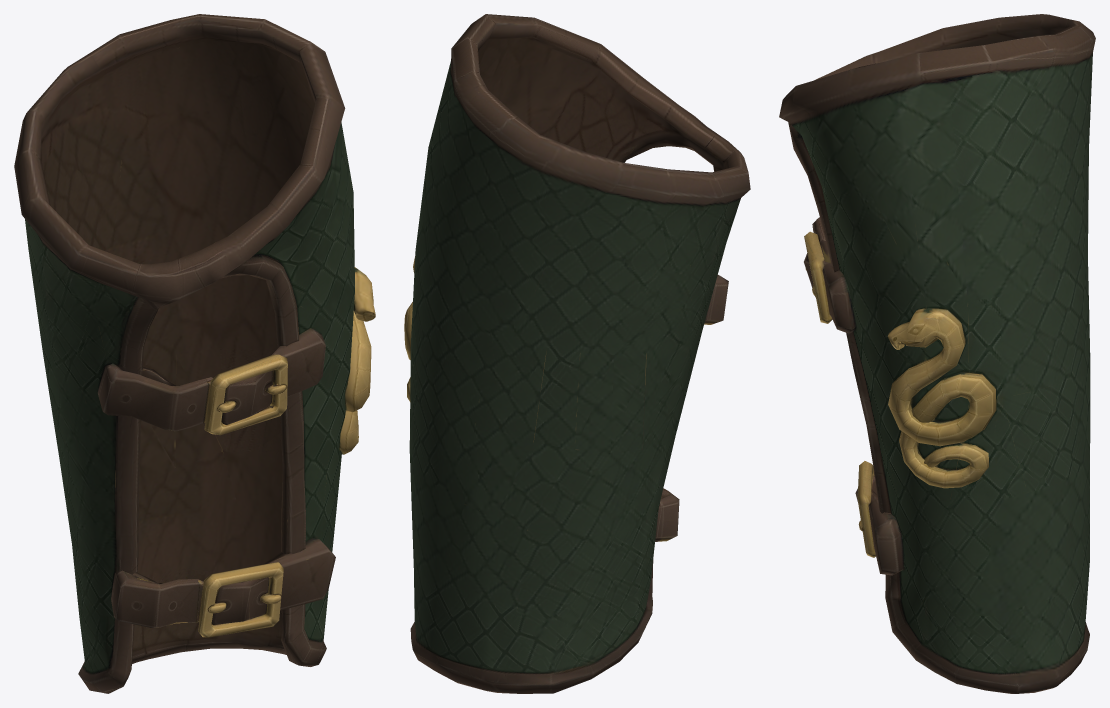
The model's file is serpents-coil-bracer-i1_i23d.glb.
3 views of the same model, side by side, from view 1: azimuth 30°, elevation 25°; view 2: azimuth 150°, elevation 25°; view 3: azimuth 270°, elevation 25° (orthographic). The views are drawn at different scales.
Size of the model in its own units: 0.5049 by 0.9512 by 0.4272.
1 material, 1 textured.
